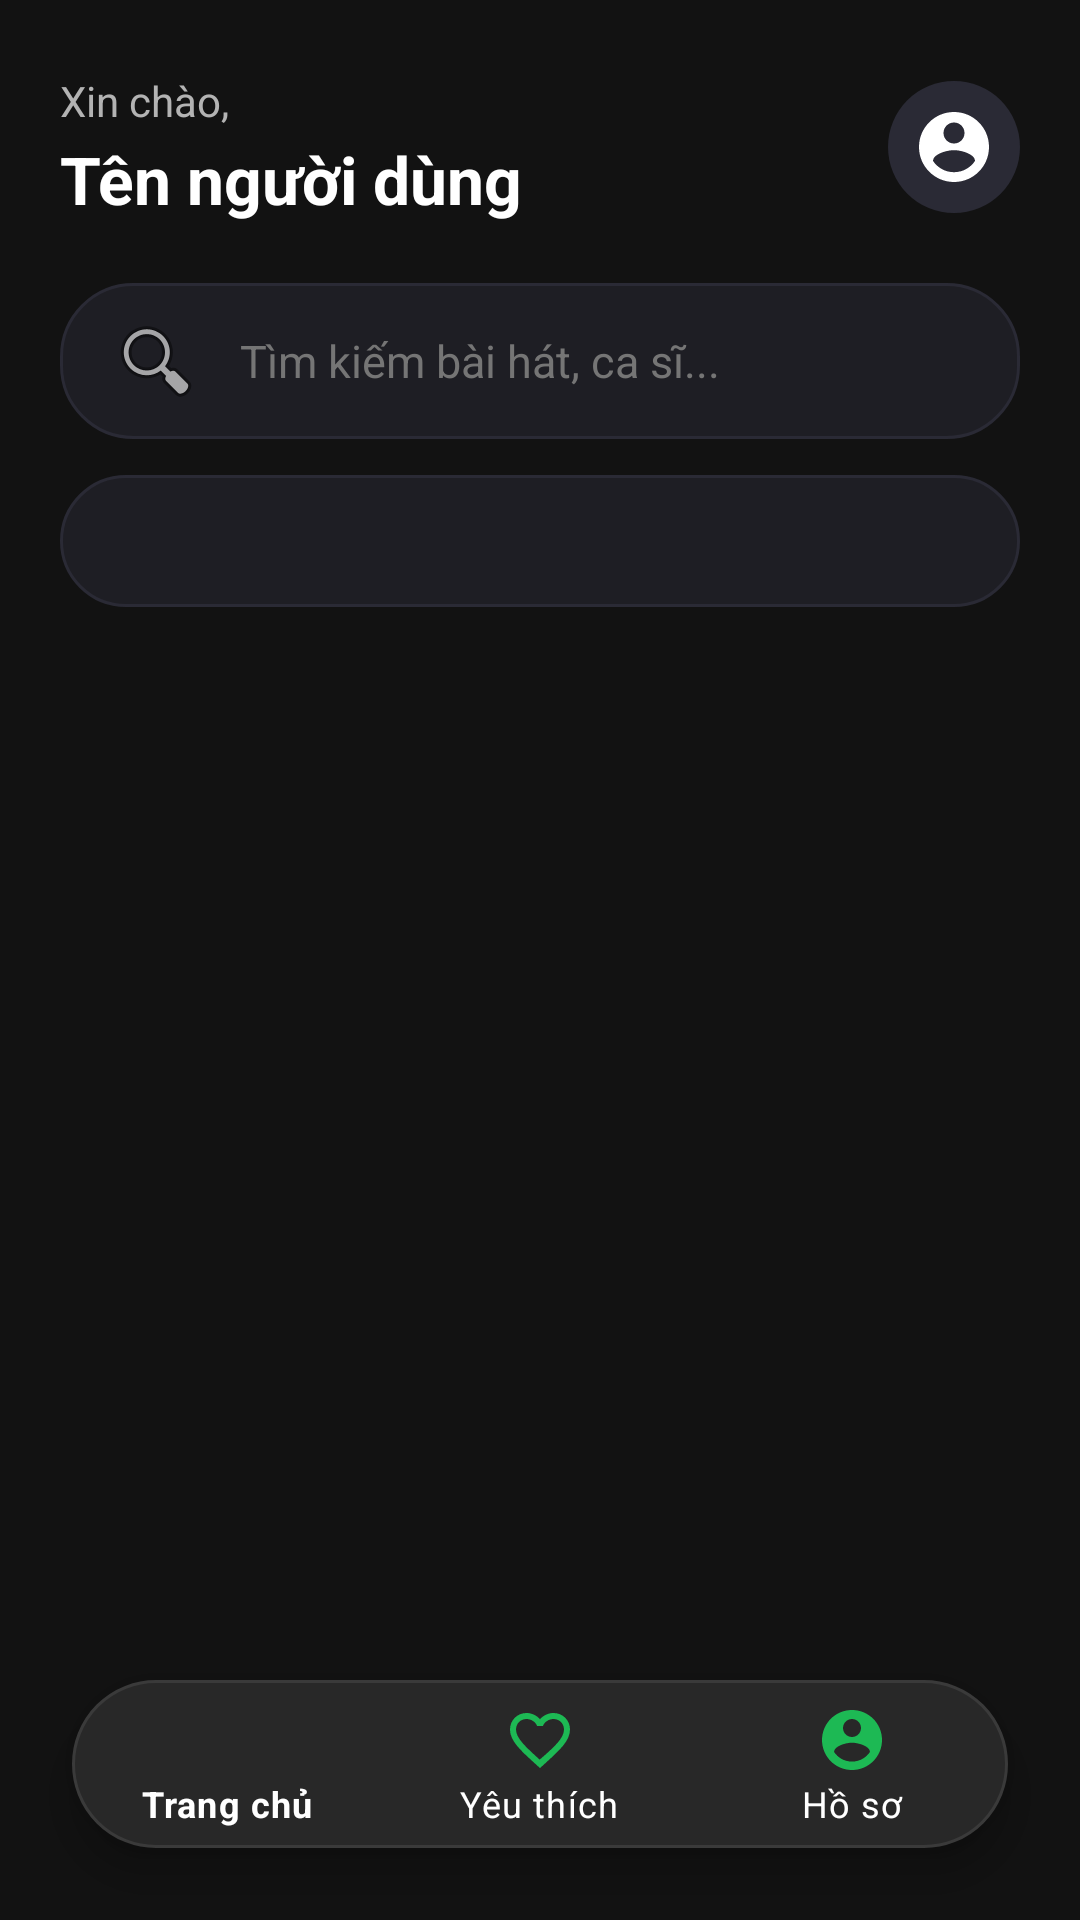

Named icons in this screenshot (1080x1920) and their centers, (x=x, y=y):
person: (x=954, y=147)
